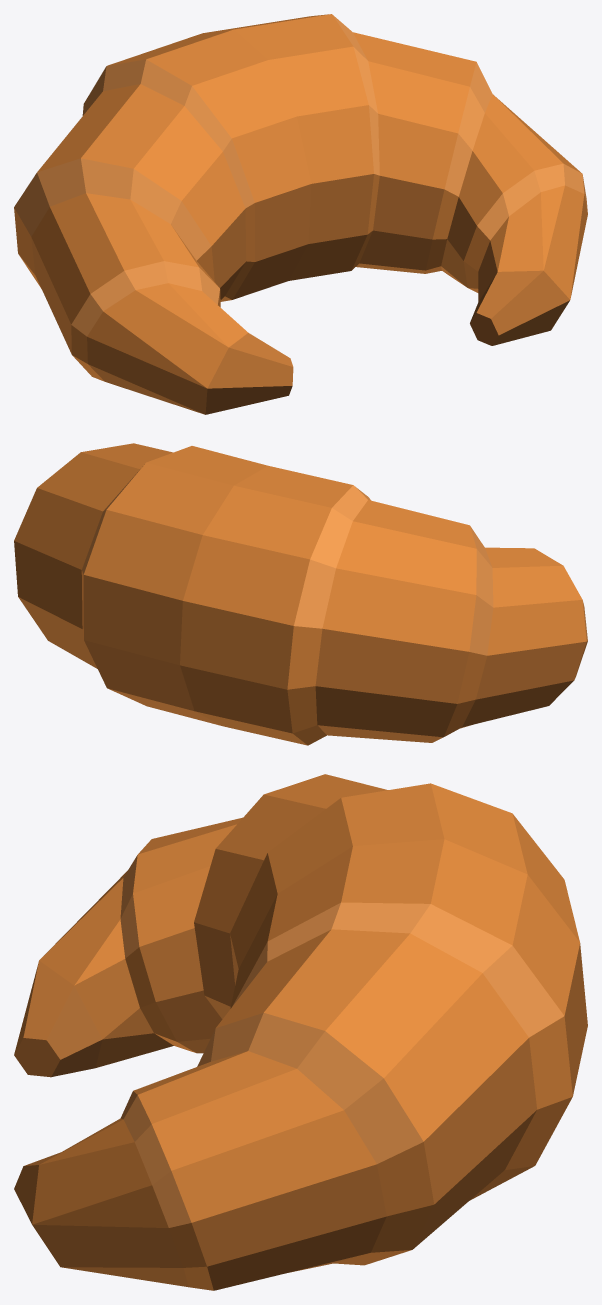
The model's file is BAKE_Croissant_01.fbx.
The picture shows the model from 3 angles, top to bottom: view 1: azimuth 30°, elevation 25°; view 2: azimuth 150°, elevation 25°; view 3: azimuth 270°, elevation 25°; orthographic projection. The views are drawn at different scales.
Parts seen in each view (by area): view 1: BAKE_Croissant_01; view 2: BAKE_Croissant_01; view 3: BAKE_Croissant_01.
Boxes of the visible parts, box(x1,y1,x2,y2) form: BAKE_Croissant_01: box(14, 14, 587, 414); BAKE_Croissant_01: box(14, 443, 587, 745); BAKE_Croissant_01: box(14, 774, 587, 1290).
Bounding box in the file's own units: 0.3103 × 0.1398 × 0.225.
